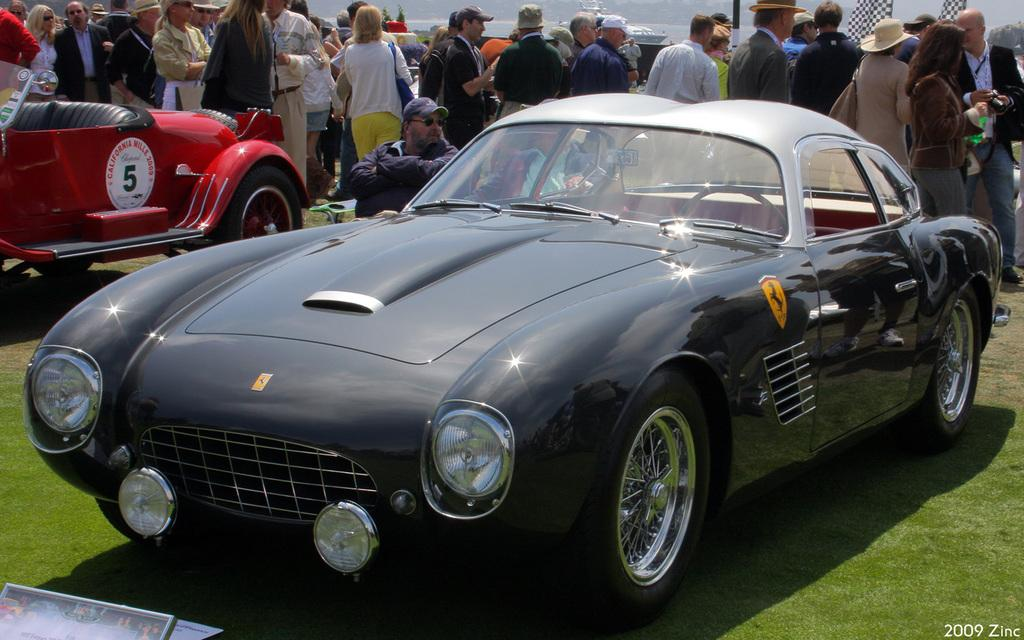Hat: (859, 17, 914, 53), (750, 0, 806, 14), (126, 0, 163, 12), (194, 0, 220, 11), (88, 1, 106, 16)
